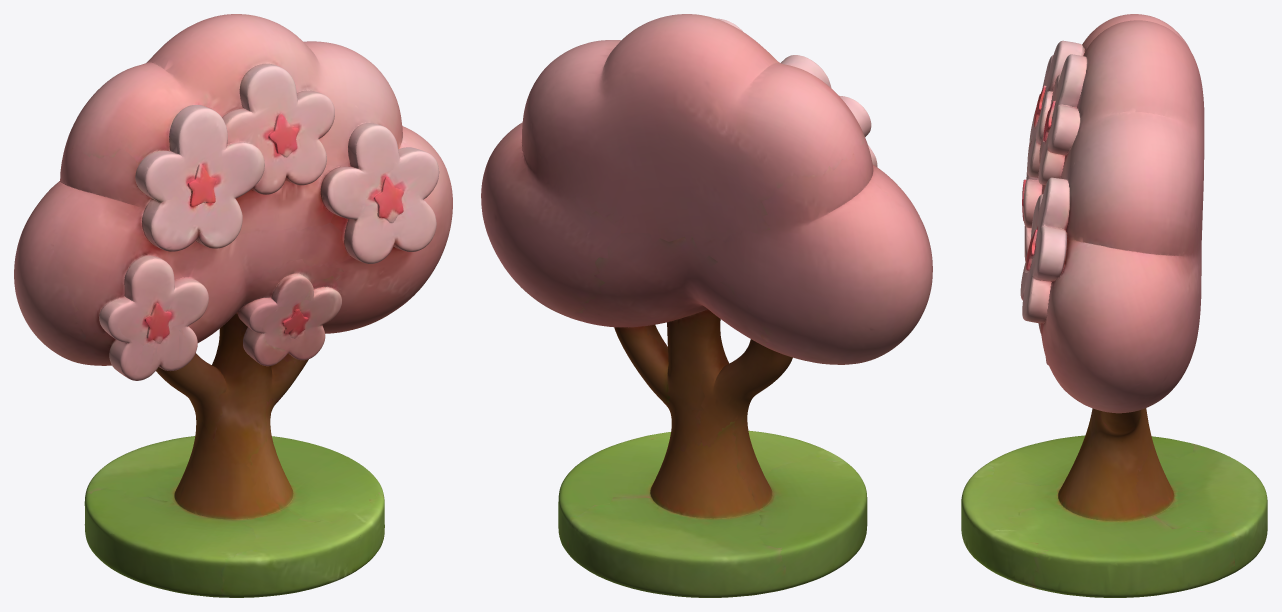
The model's file is cherryblossom_pbr.glb.
3 renders of one model, left to right at view 1: azimuth 30°, elevation 25°; view 2: azimuth 150°, elevation 25°; view 3: azimuth 270°, elevation 25°, orthographic. The views are drawn at different scales.
Parts seen in each view (by area): view 1: model; view 2: model; view 3: model.
Boxes of the visible parts, bbox=[...] form: model: bbox=[14, 14, 452, 597]; model: bbox=[481, 14, 932, 597]; model: bbox=[961, 14, 1267, 597].
Bounding box in the file's own units: 1.52 × 1.74 × 0.947.
1 material, 1 textured.
